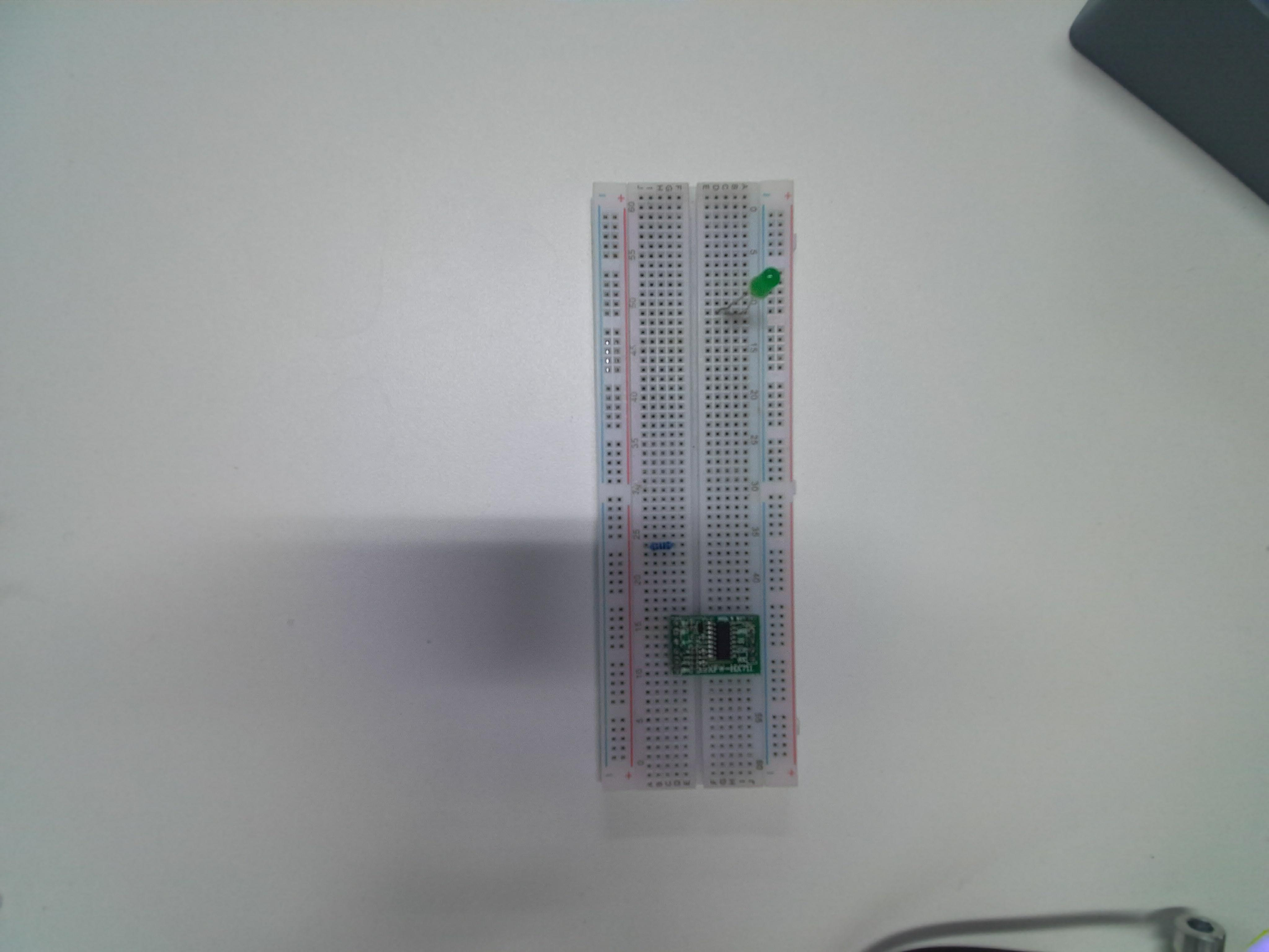base: (582, 178, 802, 799)
green-board: (666, 609, 768, 679)
green-led: (747, 258, 786, 305)
resistor-small: (648, 540, 676, 558)
